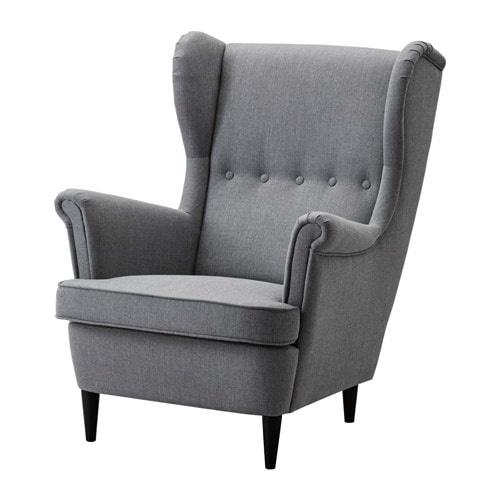obstacle: (55, 32, 444, 467)
